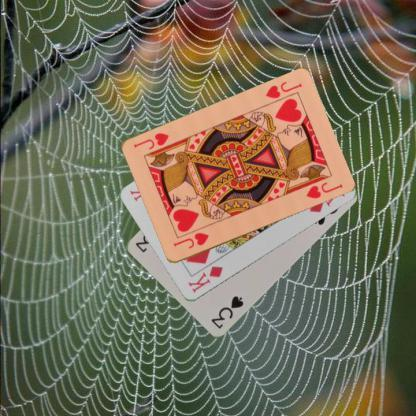3s: (208, 292, 245, 330)
Jh: (262, 79, 304, 101), (170, 230, 210, 250)
Kd: (184, 263, 224, 294)
